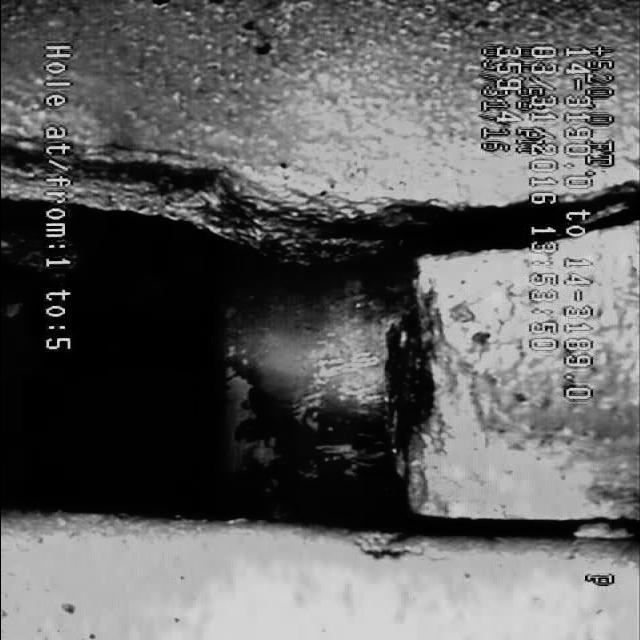Fracture: (92, 154, 612, 464)
